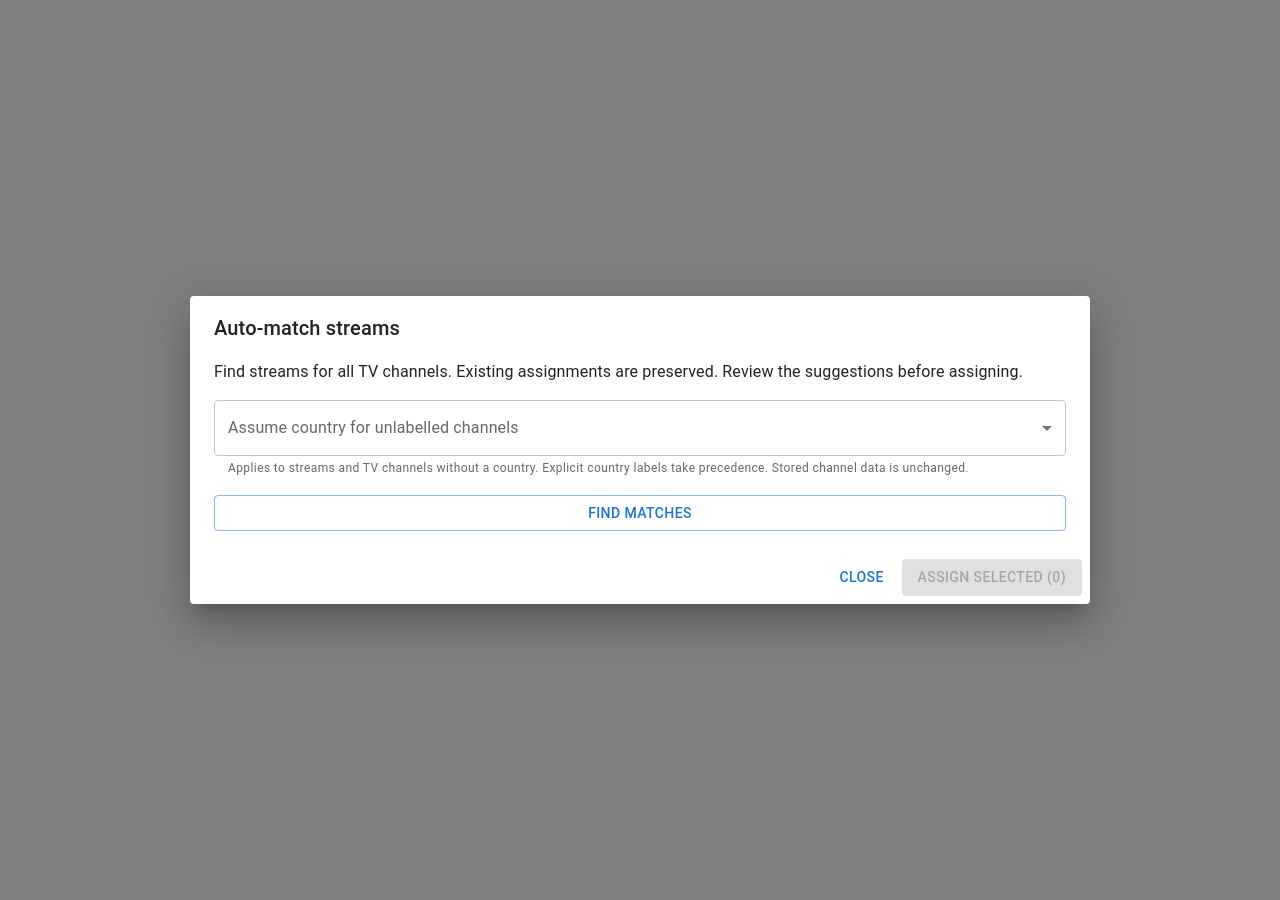
Test: shows empty analysis and supports retry after errors
Click the button "Find matches".
click(640, 513)  # box left=214, top=495, right=1066, bottom=532
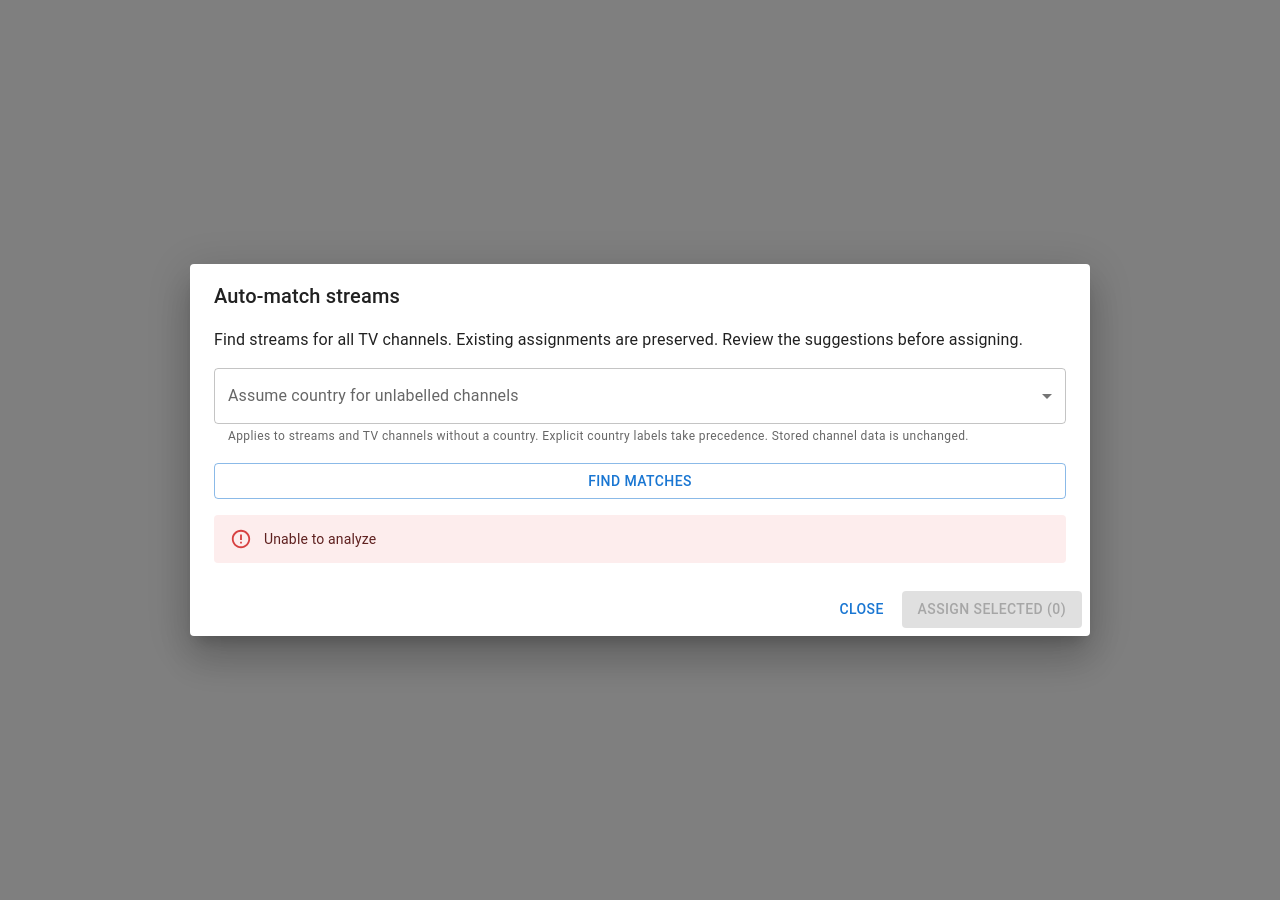
Result: the message reads "Unable to analyze" at left=264, top=531, right=376, bottom=547
Click the button "Find matches".
click(640, 481)  # box left=214, top=463, right=1066, bottom=499
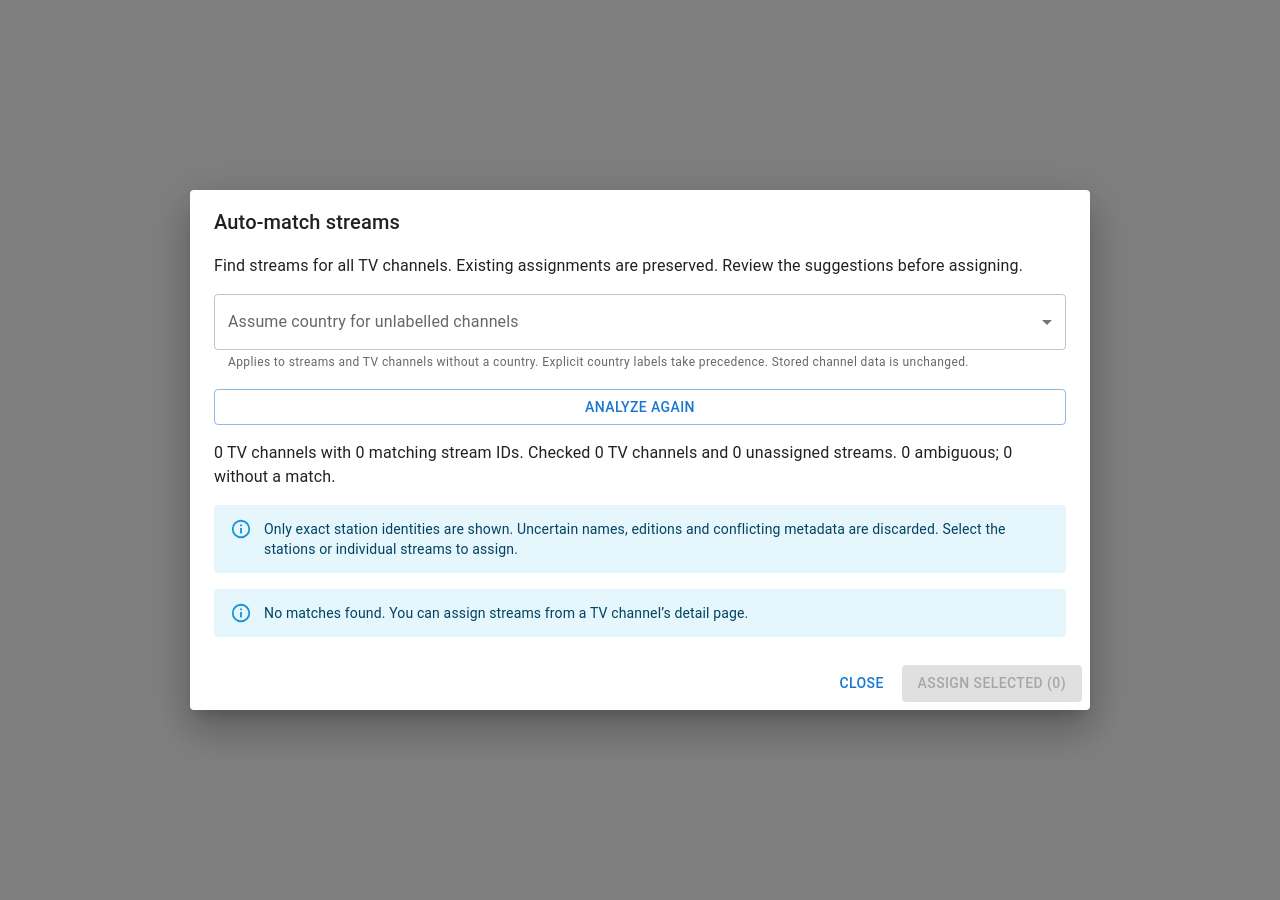
Expected: the button "Assign selected (0)" is disabled, left=902, top=666, right=1082, bottom=702
Result: the text "No matches found" is shown at left=264, top=606, right=748, bottom=622
